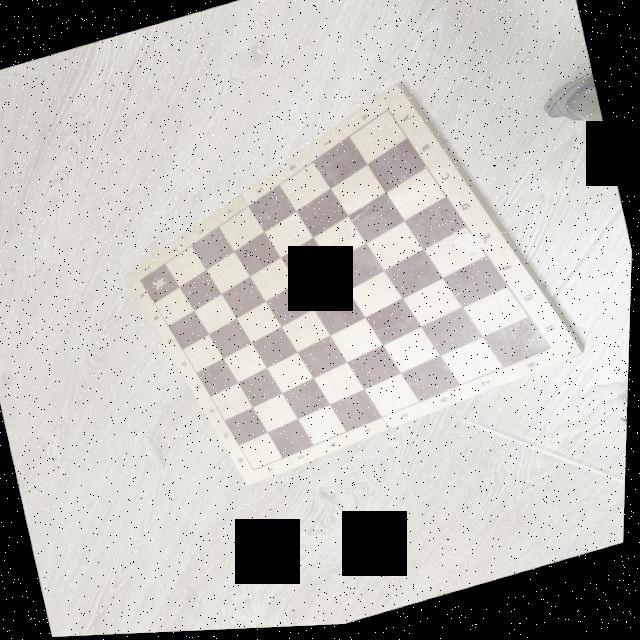chess-table-corners: (382, 106, 394, 120), (545, 348, 561, 358), (136, 278, 146, 286), (252, 468, 259, 476)
